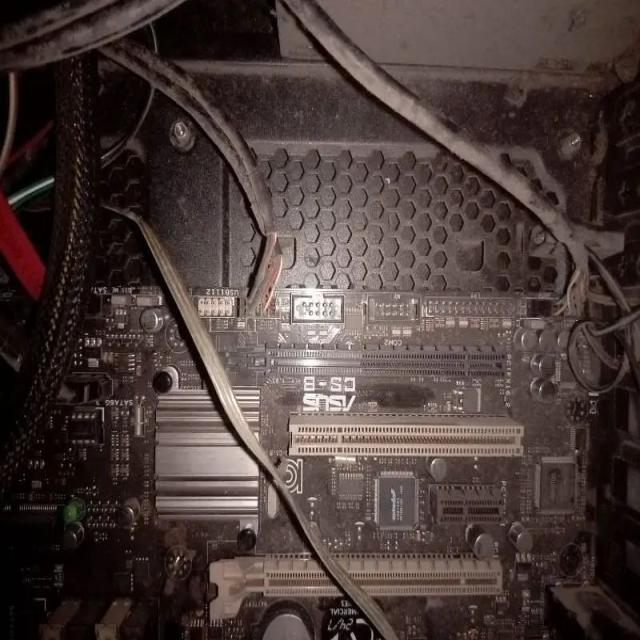electronic: (1, 2, 638, 638)
